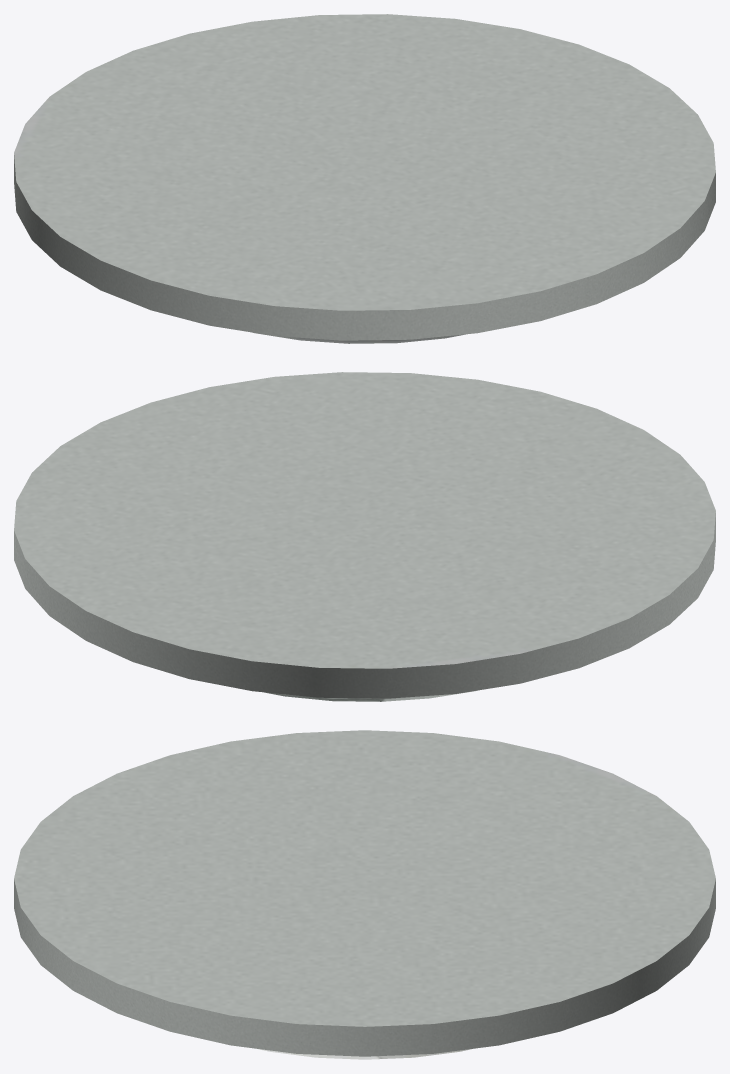
File: whjds_rfid_jz_001.obj
The picture shows the model from 3 angles, top to bottom: view 1: azimuth 30°, elevation 25°; view 2: azimuth 150°, elevation 25°; view 3: azimuth 270°, elevation 25°; orthographic projection.
Parts seen in each view (by area): view 1: whjds_jz_001; view 2: whjds_jz_001; view 3: whjds_jz_001.
Part boxes in pixels (x1=…): whjds_jz_001: x1=14, y1=14, x2=715, y2=343; whjds_jz_001: x1=14, y1=372, x2=715, y2=701; whjds_jz_001: x1=14, y1=730, x2=715, y2=1059.
Bounding box in the file's own units: 23.93 × 3.31 × 23.93.
Materials: 1 (1 with a texture image).
